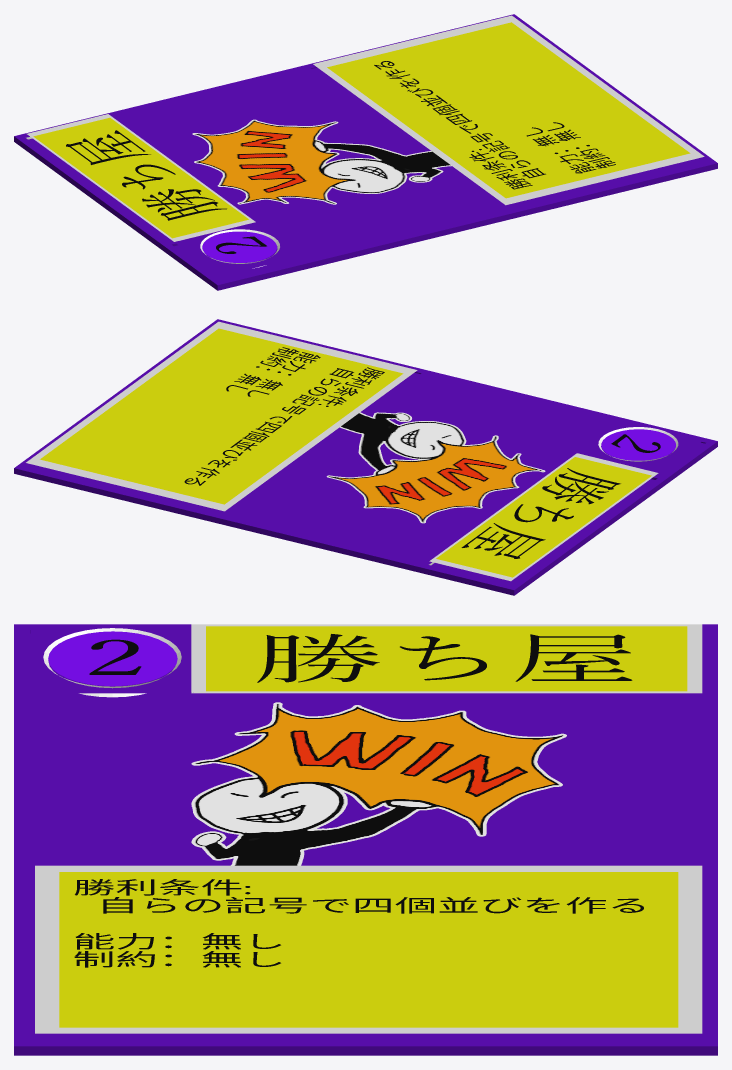
The model's file is 勝ち屋紫.fbx.
3 views of the same model, one above another, from view 1: azimuth 30°, elevation 25°; view 2: azimuth 150°, elevation 25°; view 3: azimuth 270°, elevation 25° (orthographic). The views are drawn at different scales.
Parts seen in each view (by area): view 1: カード本体.001, 説明欄, 平面.001, 名前欄, 説明文, 名前, 円, 平面; view 2: カード本体.001, 説明欄, 平面.001, 名前欄, 説明文, 名前, 円, 平面; view 3: カード本体.001, 説明欄, 平面.001, 名前欄, 説明文, 平面, 円, 名前, コスト蘭.
Part boxes in pixels (x1,y1,x2,y2): カード本体.001: (14, 14, 717, 290); 説明欄: (313, 15, 704, 205); 平面.001: (192, 119, 451, 204); 名前欄: (27, 114, 255, 241); 説明文: (374, 61, 615, 189); 名前: (66, 130, 226, 220); 円: (202, 231, 276, 262); 平面: (174, 222, 302, 275); カード本体.001: (14, 319, 717, 595); 説明欄: (26, 321, 417, 511); 平面.001: (326, 412, 545, 523); 名前欄: (429, 453, 658, 581); 説明文: (184, 347, 384, 485); 名前: (461, 468, 620, 558); 円: (601, 429, 675, 460); 平面: (577, 419, 704, 472); カード本体.001: (14, 624, 717, 1055); 説明欄: (35, 865, 702, 1033); 平面.001: (191, 702, 566, 865); 名前欄: (191, 624, 702, 693); 説明文: (74, 879, 643, 967); 平面: (30, 624, 191, 693); 円: (48, 631, 177, 686); 名前: (257, 634, 632, 682); コスト蘭: (43, 628, 181, 697).
Bounding box in the file's own units: 281 × 6.07 × 198.
